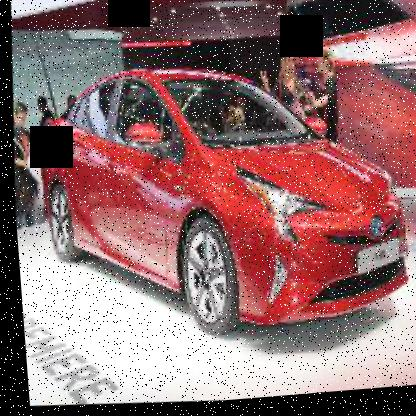not_emergency: (3, 29, 415, 355)
